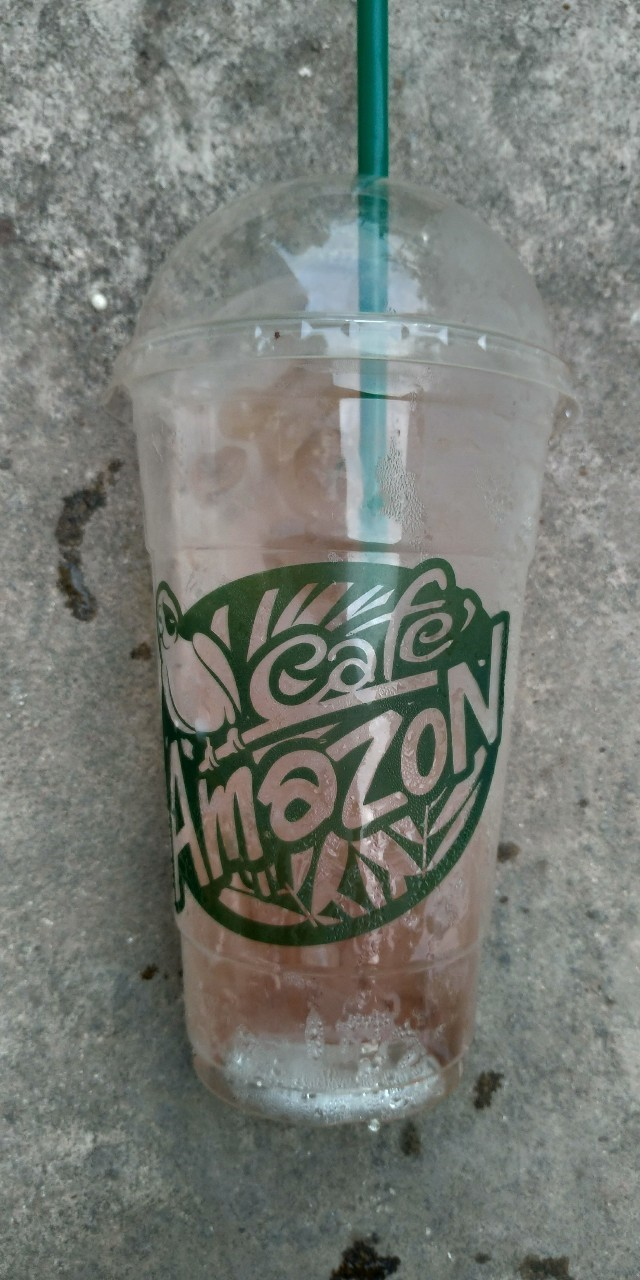PlasticCup: (113, 170, 568, 1123)
